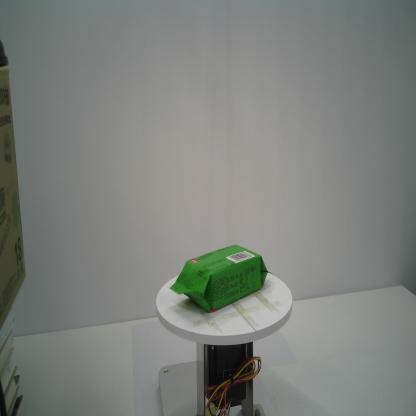Dessert: (169, 242, 273, 316)
